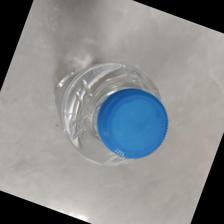Lavie: (44, 63, 178, 173)
